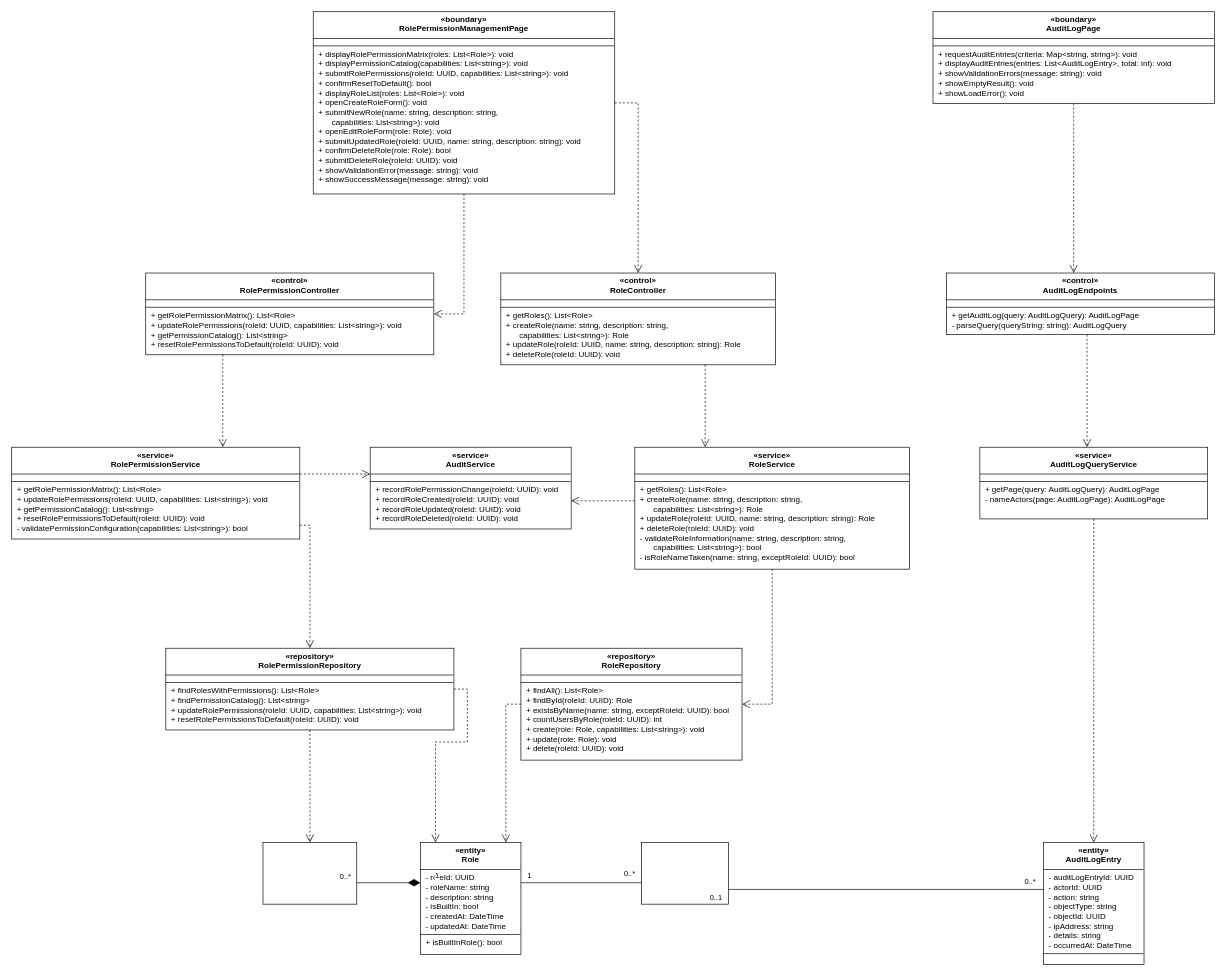
The diagram is 1226 pixels wide and 976 high, and some of its shapes have lost their labels. Here are the shapes that lost their labels. From the top down, the centre of each, then its label:
[309,873]: «entity» RoleCapability - roleId: UUID - capability: string
[685,873]: «entity» User - userId: UUID - fullName: string
